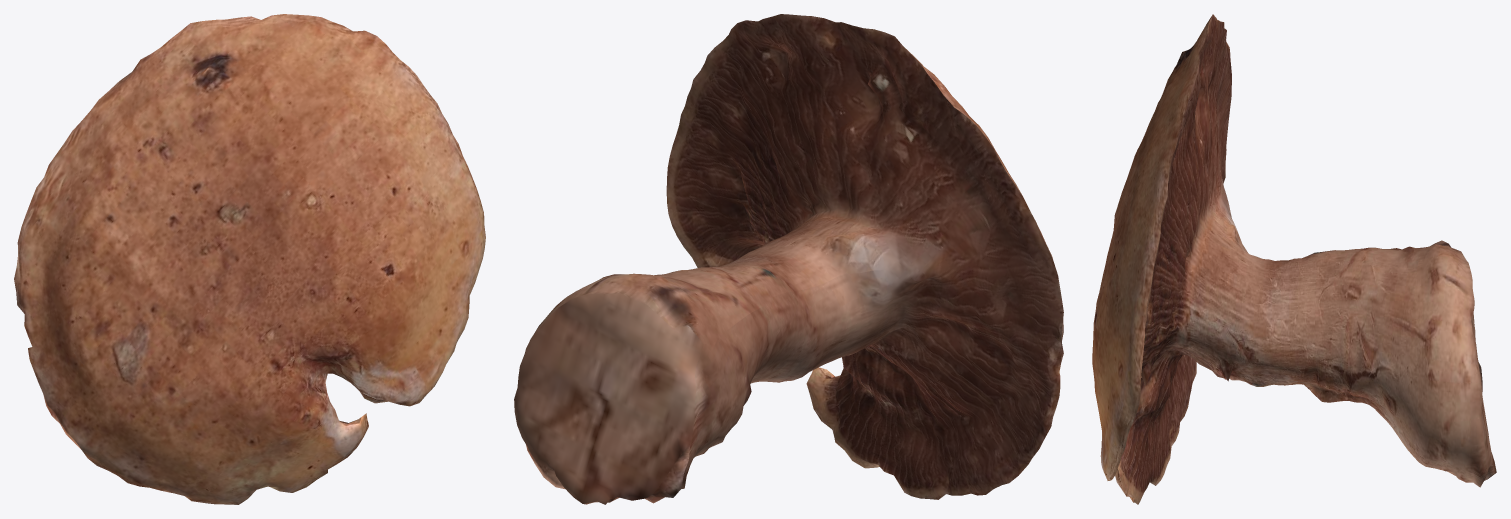
3 views of the same model, side by side, from view 1: azimuth 30°, elevation 25°; view 2: azimuth 150°, elevation 25°; view 3: azimuth 270°, elevation 25° (orthographic). The views are drawn at different scales.
Parts seen in each view (by area): view 1: Object_2; view 2: Object_2; view 3: Object_2.
Part boxes in pixels (x1,y1,x2,y2): Object_2: [14, 14, 485, 504]; Object_2: [514, 14, 1063, 504]; Object_2: [1092, 14, 1496, 504].
Size of the model in its own units: 0.0908 by 0.095 by 0.0752.
1 material, 1 textured.
